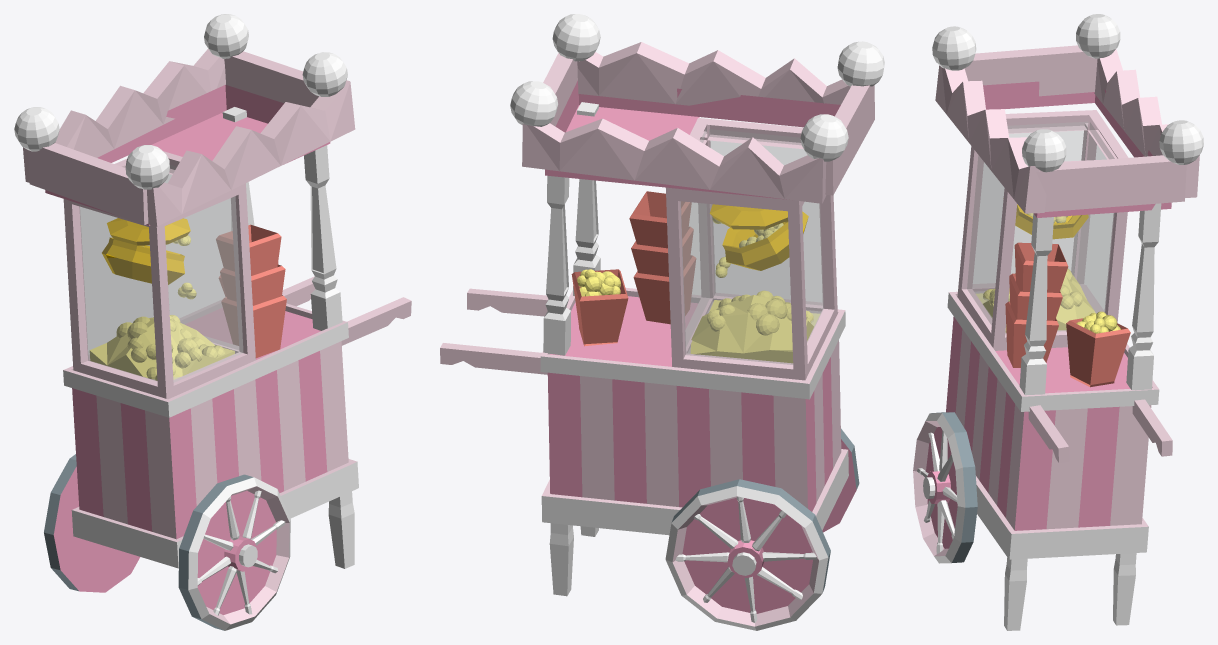
The model's file is popcornMachine.fbx.
3 renders of one model, left to right at view 1: azimuth 30°, elevation 25°; view 2: azimuth 150°, elevation 25°; view 3: azimuth 270°, elevation 25°, orthographic. The views are drawn at different scales.
Parts seen in each view (by area): view 1: model.008; view 2: model.008; view 3: model.008.
Part boxes in pixels (left/top/right/bottom): model.008: left=14, top=14, right=411, bottom=630; model.008: left=440, top=14, right=884, bottom=630; model.008: left=913, top=14, right=1203, bottom=630.
Bounding box in the file's own units: 75.95 × 98.71 × 51.64.
